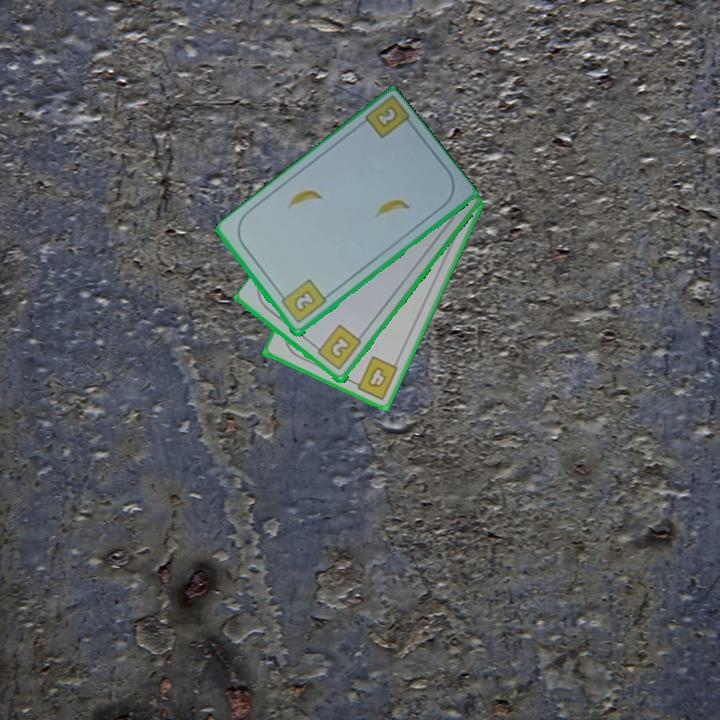2b: (310, 321, 364, 373), (276, 276, 329, 327), (372, 102, 401, 131)
4b: (347, 352, 401, 403)
